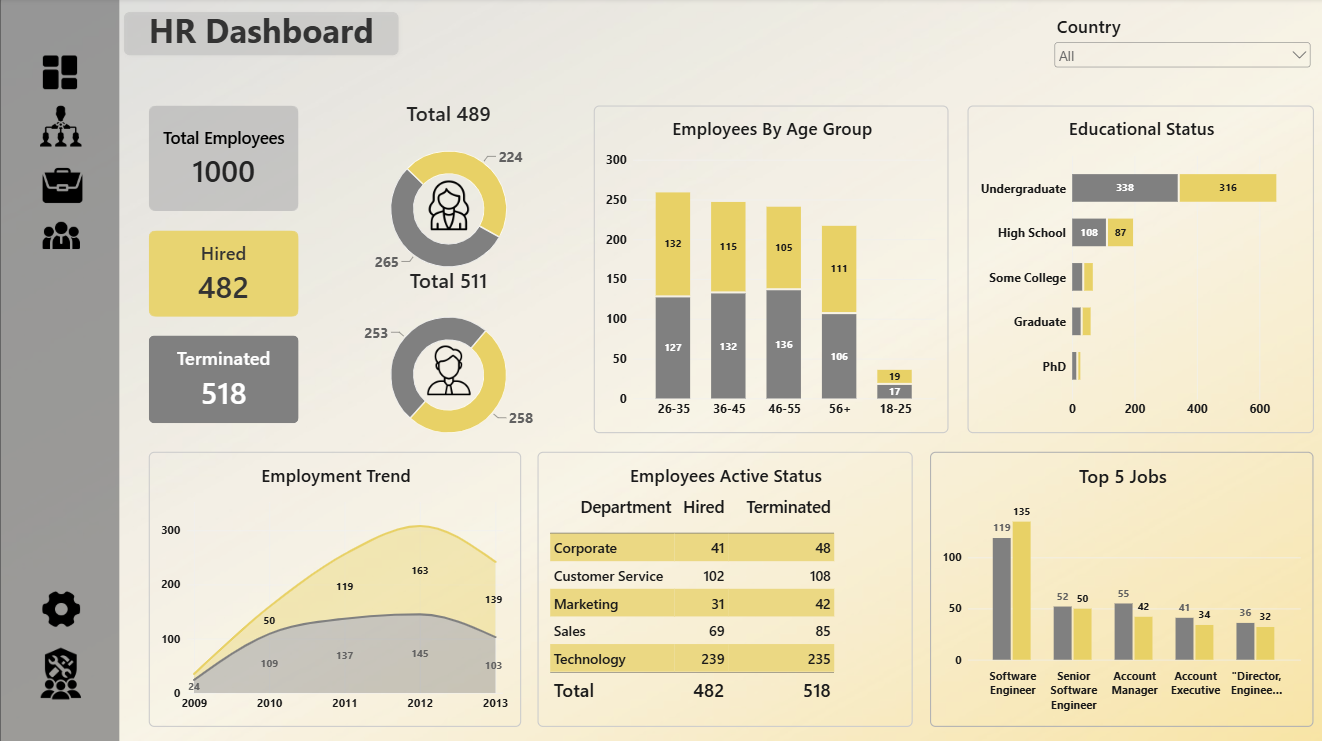

The dashboard page shown, as its layout file describes it:
{"tool":"powerbi","page":{"name":"Page 1","canvas":[1920,1080],"ordinal":0},"visuals":[{"type":"shape","box":[171.9,12.7,412.6,77.8],"z":0},{"type":"shape","box":[0,0,172.8,1079.7],"z":1000,"group":"g2"},{"type":"textbox","box":[215.3,12.7,342,77.8],"z":2000},{"type":"cardVisual","fields":{"Data":["HR_Dataset.Hired"]},"box":[215.3,336.1,218,125.6],"z":2000,"group":"g1"},{"type":"donutChart","title":"Total 489","fields":{"Category":["HR_Dataset.Active_Status"],"Y":["CountNonNull(HR_Dataset.Gender)"]},"box":[485,132.1,329.1,308.5],"z":3000,"group":"g4"},{"type":"cardVisual","fields":{"Data":["HR_Dataset.Terminated"]},"box":[215.3,489,218,127.8],"z":3000,"group":"g1"},{"type":"cardVisual","fields":{"Data":["HR_Dataset.Total Employees"]},"box":[215.3,155.6,217.2,153.2],"z":4000,"group":"g1"},{"type":"donutChart","title":"Total 511","fields":{"Category":["HR_Dataset.Active_Status"],"Y":["CountNonNull(HR_Dataset.Gender)"]},"box":[485,372.8,329,308],"z":4000,"group":"g3"},{"type":"columnChart","title":"Employees By Age Group","fields":{"Category":["HR_Dataset.Age Group"],"Series":["HR_Dataset.Active_Status"],"Y":["CountNonNull(HR_Dataset.EmployeeID)"]},"box":[859.6,155.6,513.9,474.1],"z":5000},{"type":"barChart","title":"Educational Status","fields":{"Category":["HR_Dataset.Education"],"Series":["HR_Dataset.Active_Status"],"Y":["CountNonNull(HR_Dataset.EmployeeID)"]},"box":[1400.7,155.6,501.3,474.1],"z":6000},{"type":"stackedAreaChart","title":"Employment Trend","fields":{"Category":["HR_Dataset.Start_Date.Variation.Date Hierarchy.Year","HR_Dataset.Start_Date.Variation.Date Hierarchy.Quarter"],"Series":["HR_Dataset.Active_Status"],"Y":["CountNonNull(HR_Dataset.EmployeeID)"]},"box":[215.3,656.9,539.3,398.1],"z":7000},{"type":"tableEx","title":"Employees Active Status","fields":{"Values":["HR_Dataset.Department","HR_Dataset.Hired","HR_Dataset.Terminated"]},"box":[778.2,656.9,542.9,398.1],"z":8000},{"type":"clusteredColumnChart","title":"Top 5 Jobs","fields":{"Category":["HR_Dataset.Job_title"],"Series":["HR_Dataset.Active_Status"],"Y":["CountNonNull(HR_Dataset.EmployeeID)"]},"box":[1346.4,656.9,555.6,398.1],"z":9000},{"type":"group","id":"g1","title":"Group 1","box":[215.3,155.6,217.2,461.5],"z":10000},{"type":"image","box":[571.9,264.2,155.6,72.4],"z":11000},{"type":"image","box":[530.2,503.1,238.9,72.4],"z":12000,"group":"g3"},{"type":"image","box":[30.8,939.2,114,77.8],"z":13000,"group":"g2"},{"type":"image","box":[30.8,856,115.8,57.9],"z":14000,"group":"g2"},{"type":"image","box":[56.1,242.5,68.8,57.9],"z":15000,"group":"g2"},{"type":"image","box":[38,155.6,99.5,59.7],"z":16000,"group":"g2"},{"type":"image","box":[47.1,314.9,83.2,57.9],"z":17000,"group":"g2"},{"type":"image","box":[45.2,83.2,83.2,48.9],"z":18000,"group":"g2"},{"type":"group","id":"g2","title":"Group 2","box":[0,0,172.8,1079.7],"z":18001},{"type":"group","id":"g3","title":"Group 3","box":[485,372.8,329,308],"z":18002,"group":"g4"},{"type":"group","id":"g4","title":"Group 4","box":[485,132.1,329.1,548.7],"z":18003},{"type":"slicer","fields":{"Values":["HR_Dataset.Country","HR_Dataset.State"]},"box":[1521.9,23.5,380,108.6],"z":18004}]}

Visuals, with their boxes on the page's 1920x1080 design canvas (x1, y1, x2, y2). These are canvas units, not pixel positions in the 1322x741 screenshot, which may show the page scaled, cropped or inside an application window:
shape: left=172, top=13, right=584, bottom=90
shape: left=0, top=0, right=173, bottom=1080
textbox: left=215, top=13, right=557, bottom=90
cardVisual - HR_Dataset.Hired: left=215, top=336, right=433, bottom=462
"Total 489" donutChart: left=485, top=132, right=814, bottom=441
cardVisual - HR_Dataset.Terminated: left=215, top=489, right=433, bottom=617
cardVisual - HR_Dataset.Total Employees: left=215, top=156, right=432, bottom=309
"Total 511" donutChart: left=485, top=373, right=814, bottom=681
"Employees By Age Group" columnChart: left=860, top=156, right=1374, bottom=630
"Educational Status" barChart: left=1401, top=156, right=1902, bottom=630
"Employment Trend" stackedAreaChart: left=215, top=657, right=755, bottom=1055
"Employees Active Status" tableEx: left=778, top=657, right=1321, bottom=1055
"Top 5 Jobs" clusteredColumnChart: left=1346, top=657, right=1902, bottom=1055
"Group 1" group: left=215, top=156, right=432, bottom=617
image: left=572, top=264, right=728, bottom=337
image: left=530, top=503, right=769, bottom=576
image: left=31, top=939, right=145, bottom=1017
image: left=31, top=856, right=147, bottom=914
image: left=56, top=242, right=125, bottom=300
image: left=38, top=156, right=138, bottom=215
image: left=47, top=315, right=130, bottom=373
image: left=45, top=83, right=128, bottom=132
"Group 2" group: left=0, top=0, right=173, bottom=1080
"Group 3" group: left=485, top=373, right=814, bottom=681
"Group 4" group: left=485, top=132, right=814, bottom=681
slicer - HR_Dataset.Country x HR_Dataset.State: left=1522, top=24, right=1902, bottom=132
